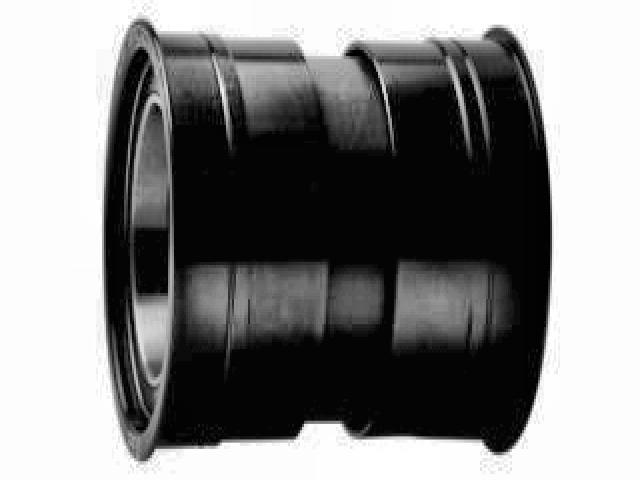bottom_bracket: (100, 9, 556, 463)
